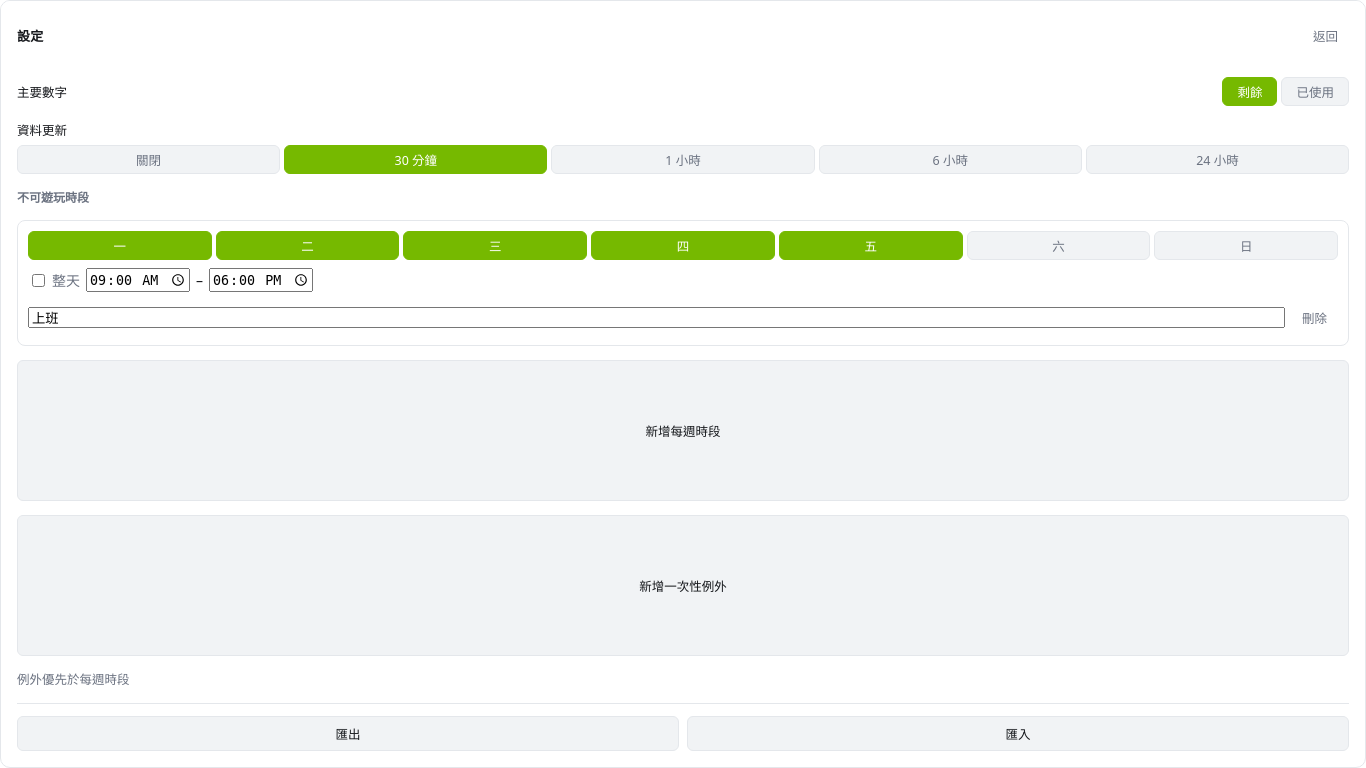
Test case: ScheduleForm › 後端拒絕時把訊息顯示在表單上
Click the button named "星期六" at (1058, 246), box 967,231 -> 1150,260
Wait 1000 ms
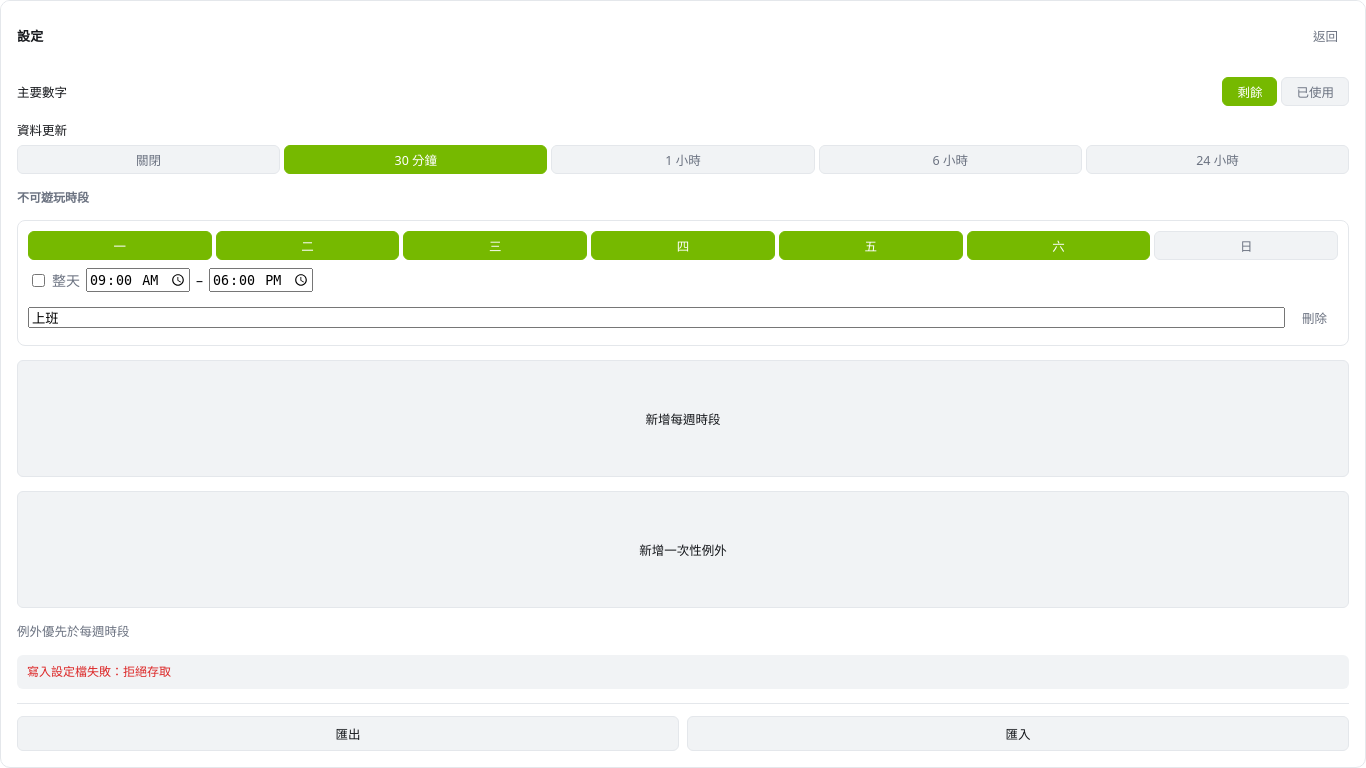
expect the text "寫入設定檔失敗：拒絕存取" is shown: met, box 17,655 -> 1349,689
